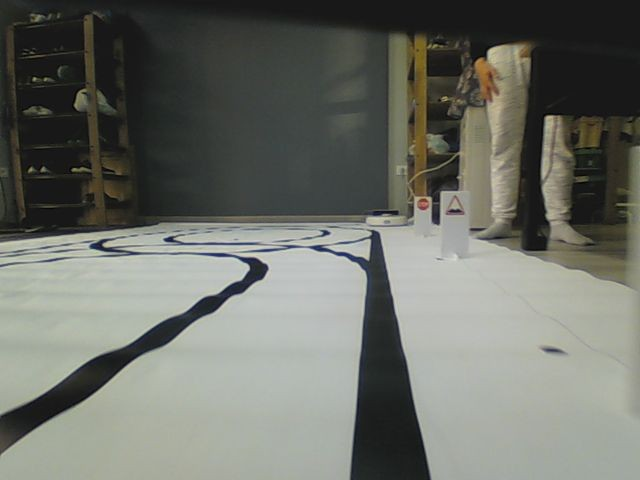Nerov: (444, 194, 464, 216)
